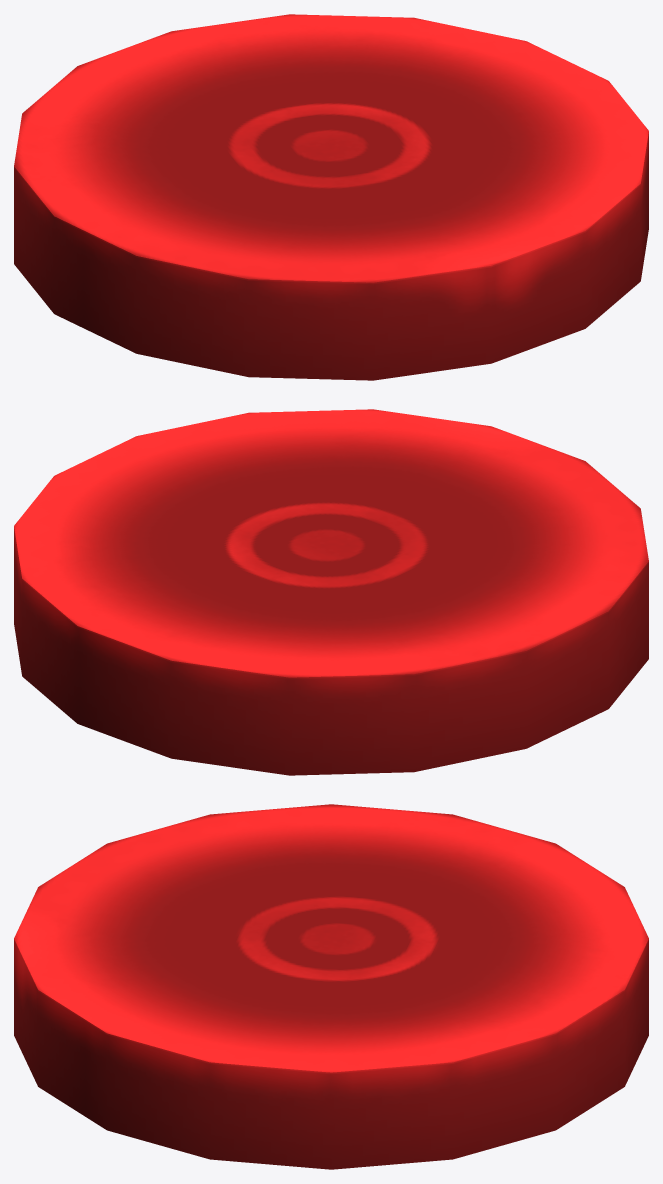
The model's file is ButtonPress_Ground.glb.
3 renders of one model, top to bottom at view 1: azimuth 30°, elevation 25°; view 2: azimuth 150°, elevation 25°; view 3: azimuth 270°, elevation 25°, orthographic.
Visible parts, largest first — view 1: Cube.006; view 2: Cube.006; view 3: Cube.006.
Boxes of the visible parts, bbox=[...] form: Cube.006: bbox=[14, 14, 648, 380]; Cube.006: bbox=[14, 409, 648, 775]; Cube.006: bbox=[14, 804, 648, 1169].
Bounding box in the file's own units: 0.8 × 0.135 × 0.8.
1 material, 1 textured.
